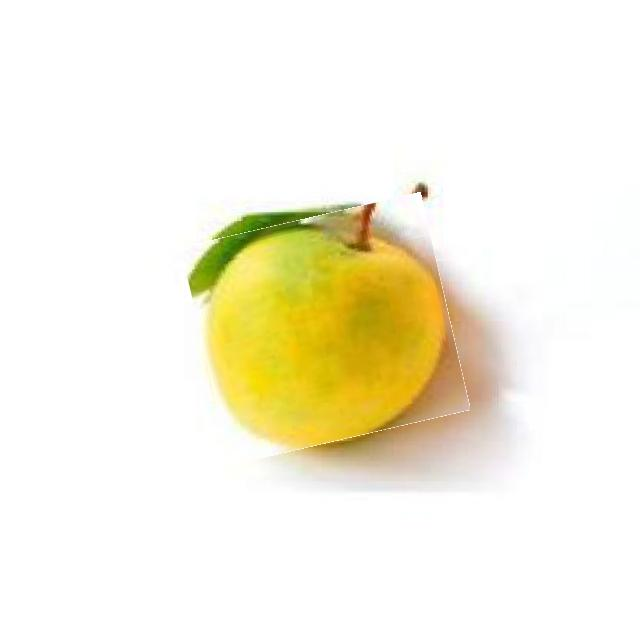mango: (192, 205, 460, 452)
